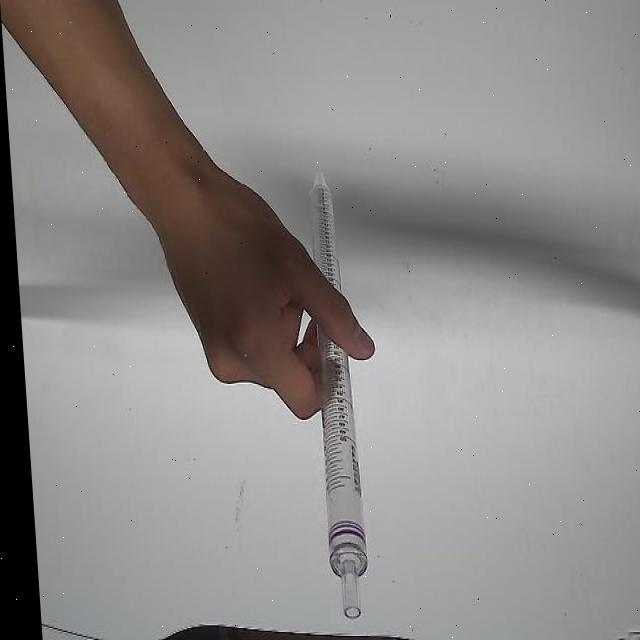Serelogical Pipet 50 mL: (295, 167, 374, 623)
